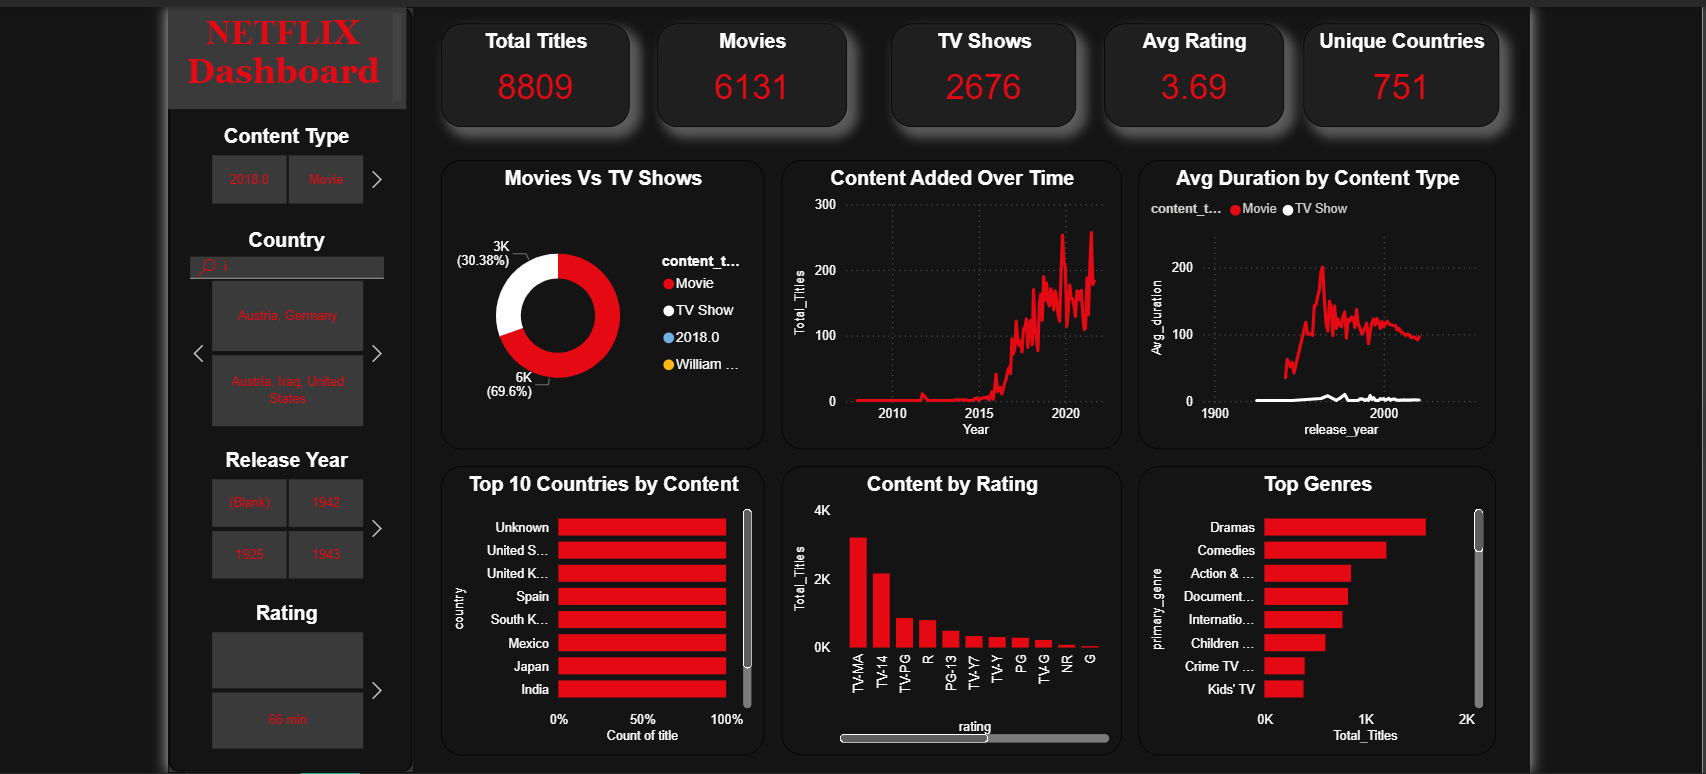

What the dashboard file says about the page in this screenshot:
{"tool":"powerbi","page":{"name":"Page 1","canvas":[1280,720],"ordinal":0},"visuals":[{"type":"shape","box":[0,0,231.1,720.3],"z":0},{"type":"card","title":"Total Titles","fields":{"Values":["cleaned_netflix_data.Total_Titles"]},"box":[257,16,177.3,97.6],"z":1000},{"type":"card","title":"Movies","fields":{"Values":["cleaned_netflix_data.Total_Movies"]},"box":[460.3,16,178.9,97.6],"z":2000},{"type":"card","title":" TV Shows","fields":{"Values":["cleaned_netflix_data.Total_Shows"]},"box":[679,16,174.1,97.5],"z":3000},{"type":"card","title":"Unique Countries","fields":{"Values":["cleaned_netflix_data.Unique_Countries"]},"box":[1067.2,16,183.7,97.5],"z":4000},{"type":"card","title":"Avg Rating","fields":{"Values":["cleaned_netflix_data.Avg Rating"]},"box":[880,16,169.2,97.6],"z":5000},{"type":"donutChart","title":"Movies Vs TV Shows","fields":{"Category":["cleaned_netflix_data.content_type"],"Y":["cleaned_netflix_data.Total_Titles"]},"box":[256,144,304,272],"z":6000},{"type":"lineChart","title":"Content Added Over Time","fields":{"Y":["cleaned_netflix_data.Total_Titles"],"Category":["cleaned_netflix_data.date_added.Variation.Date Hierarchy.Year","cleaned_netflix_data.date_added.Variation.Date Hierarchy.Month"]},"box":[576,144,320,272],"z":7000},{"type":"hundredPercentStackedBarChart","title":"Top 10 Countries by Content","fields":{"Category":["cleaned_netflix_data.country"],"Y":["cleaned_netflix_data.title"]},"box":[256,432,304,272],"z":8000},{"type":"columnChart","title":"Content by Rating","fields":{"Category":["cleaned_netflix_data.rating"],"Y":["cleaned_netflix_data.Total_Titles"]},"box":[576,432,320,272],"z":9000},{"type":"barChart","title":"Top Genres","fields":{"Category":["cleaned_netflix_data.primary_genre"],"Y":["cleaned_netflix_data.Total_Titles"]},"box":[912,432,336,272],"z":10000},{"type":"lineChart","title":"Avg Duration by Content Type","fields":{"Y":["cleaned_netflix_data.Avg_duration"],"Category":["cleaned_netflix_data.release_year"],"Series":["cleaned_netflix_data.content_type"]},"box":[912,144,336,272],"z":11000},{"type":"slicer","title":"Content Type","fields":{"Values":["cleaned_netflix_data.content_type"]},"box":[16,112,192,80],"z":12000},{"type":"slicer","title":"Release Year","fields":{"Values":["cleaned_netflix_data.release_year"]},"box":[16,416,192,128],"z":13000},{"type":"slicer","title":"Country","fields":{"Values":["cleaned_netflix_data.country"]},"box":[16,208,192,192],"z":14000},{"type":"slicer","title":"Rating","fields":{"Values":["cleaned_netflix_data.rating"]},"box":[16,560,192,144],"z":15000},{"type":"textbox","box":[0,0,224,96],"z":16000}]}

Visuals, with their boxes on the page's 1280x720 design canvas (x1, y1, x2, y2). These are canvas units, not pixel positions in the 1706x774 screenshot, which may show the page scaled, cropped or inside an application window:
shape: box=[0, 0, 231, 720]
"Total Titles" card: box=[257, 16, 434, 114]
"Movies" card: box=[460, 16, 639, 114]
" TV Shows" card: box=[679, 16, 853, 114]
"Unique Countries" card: box=[1067, 16, 1251, 114]
"Avg Rating" card: box=[880, 16, 1049, 114]
"Movies Vs TV Shows" donutChart: box=[256, 144, 560, 416]
"Content Added Over Time" lineChart: box=[576, 144, 896, 416]
"Top 10 Countries by Content" hundredPercentStackedBarChart: box=[256, 432, 560, 704]
"Content by Rating" columnChart: box=[576, 432, 896, 704]
"Top Genres" barChart: box=[912, 432, 1248, 704]
"Avg Duration by Content Type" lineChart: box=[912, 144, 1248, 416]
"Content Type" slicer: box=[16, 112, 208, 192]
"Release Year" slicer: box=[16, 416, 208, 544]
"Country" slicer: box=[16, 208, 208, 400]
"Rating" slicer: box=[16, 560, 208, 704]
textbox: box=[0, 0, 224, 96]
